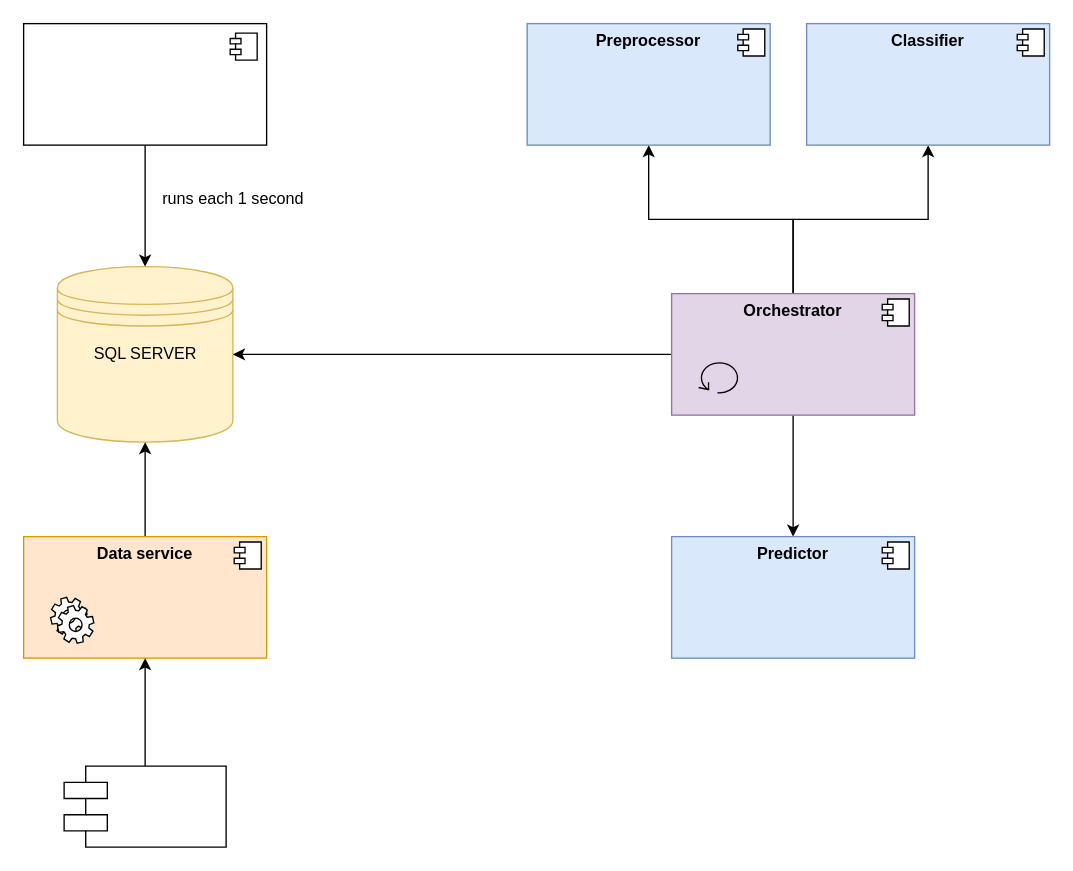
The diagram is 1073 pixels wide and 871 high, and some of its shapes have lost their labels. The centre of each missing label's shape, as x and y in pixels:
"PLC - Data filler" goes at pixel 144 83.
"POWER BI" goes at pixel 144 806.
